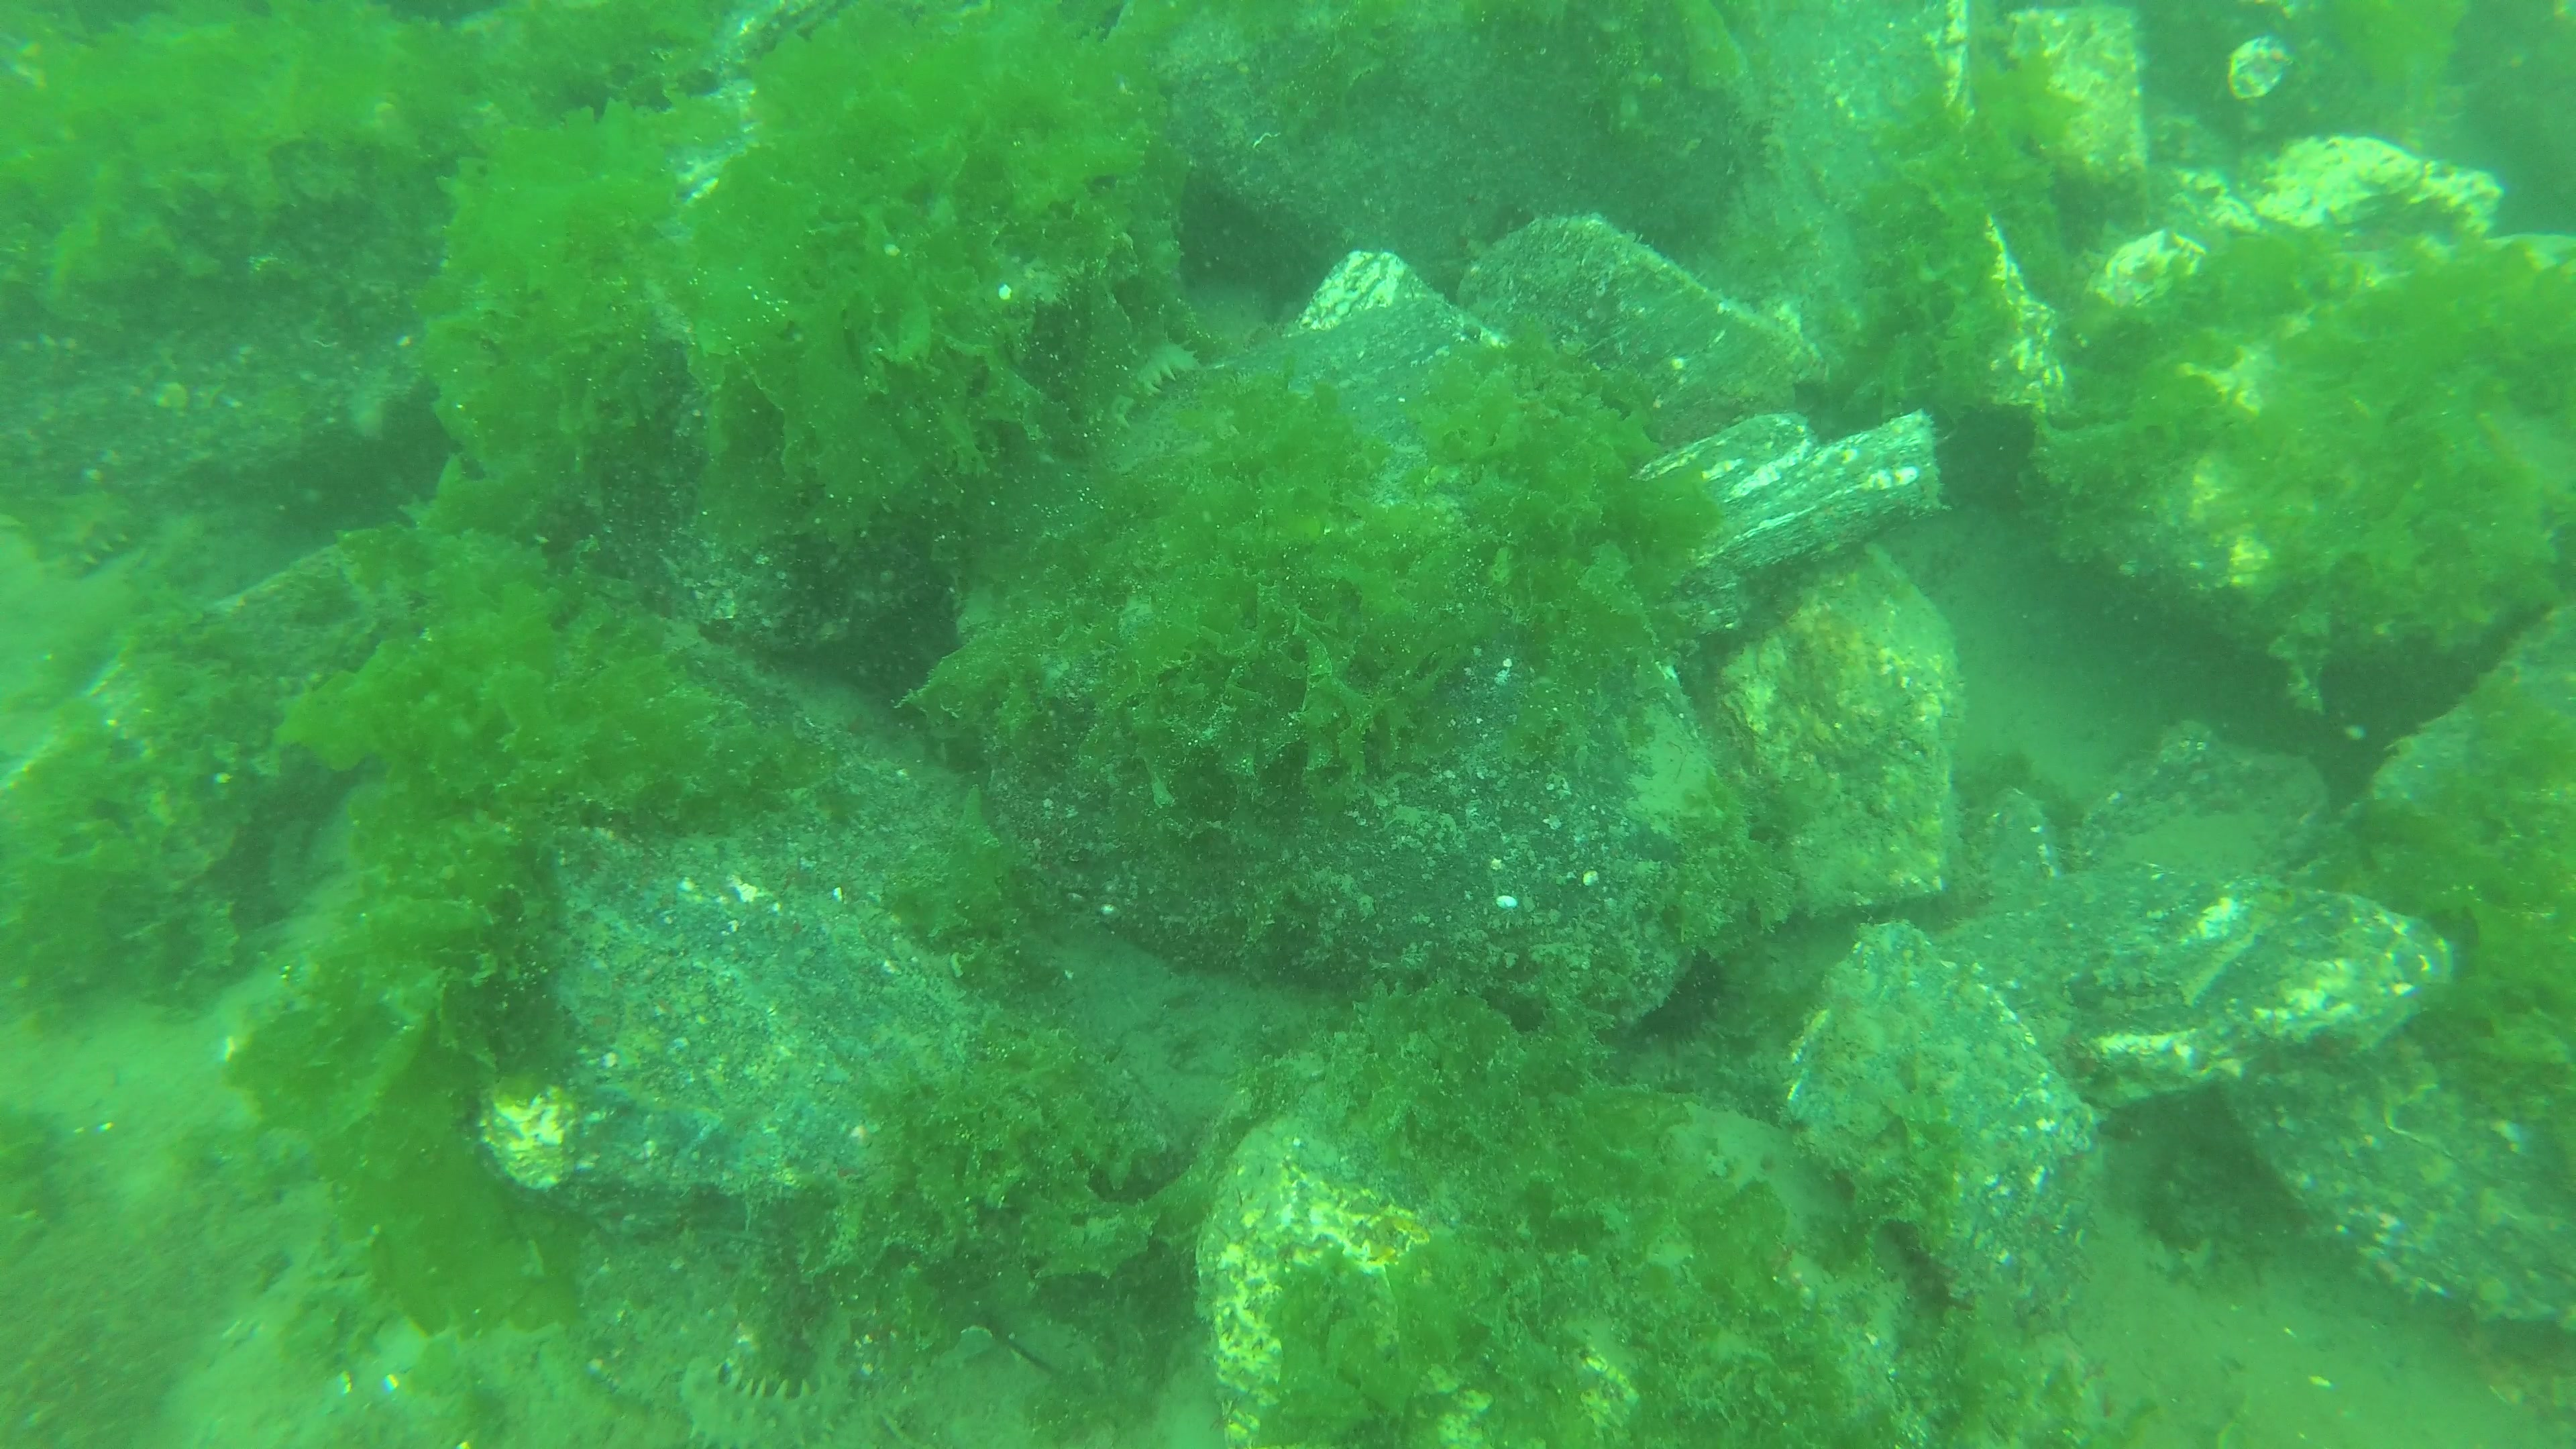echinus: (1642, 945, 1727, 1042)
holothurian: (679, 1352, 860, 1449), (1085, 338, 1203, 432), (50, 511, 142, 575)
